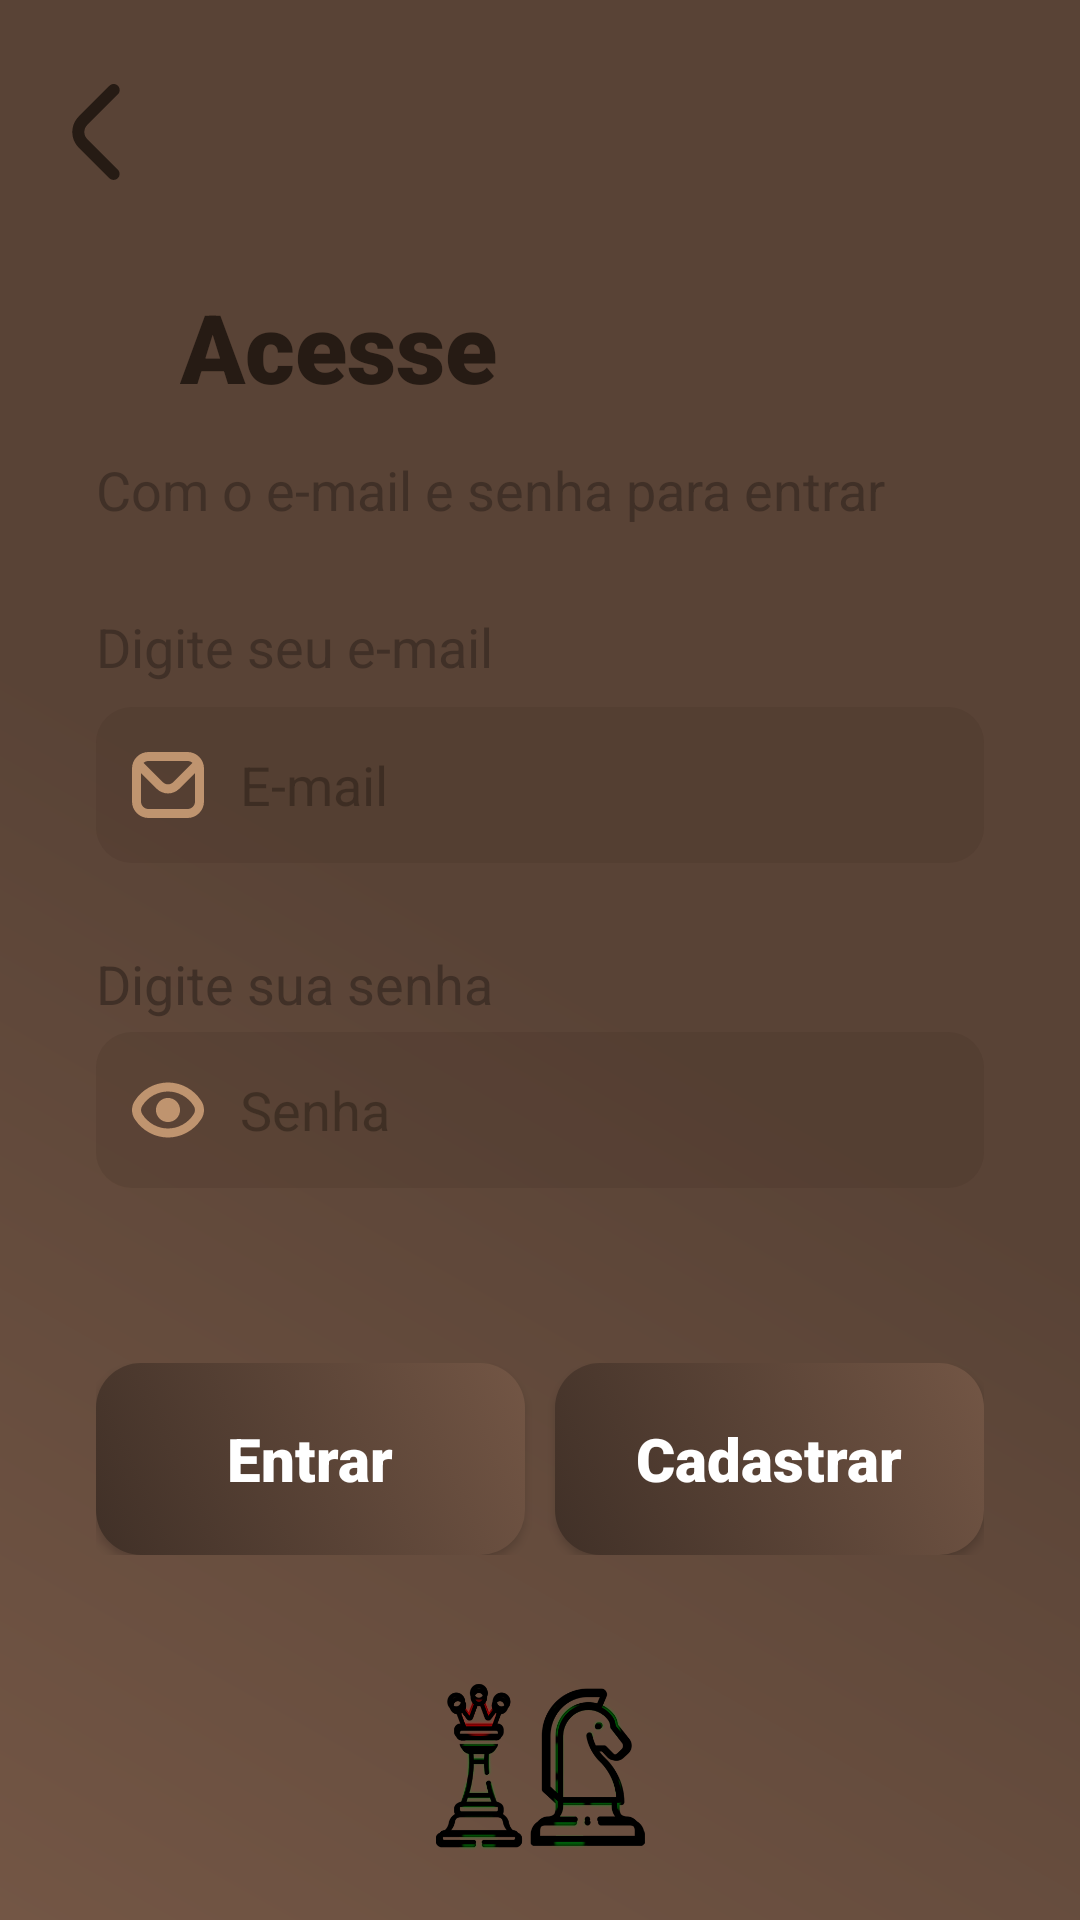

Named icons in this screenshot (1080 × 1920) and their centers, [x,y]:
botao voltar: [96,132]
